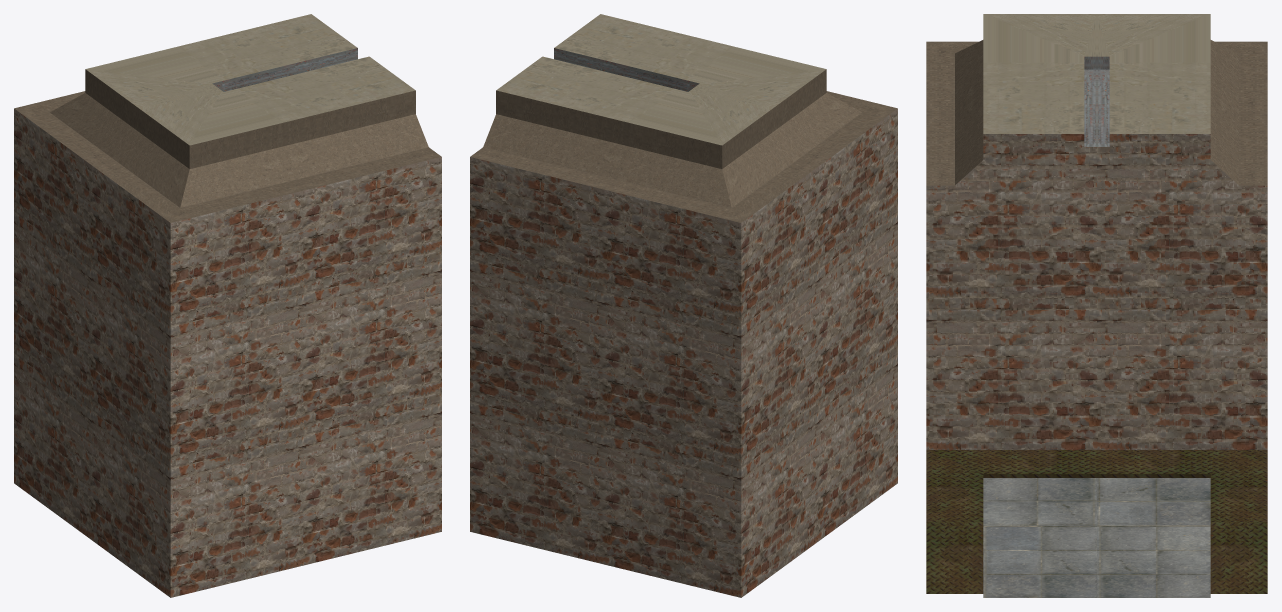
The model's file is 3x3_end_hallway.fbx.
3 renders of one model, left to right at view 1: azimuth 30°, elevation 25°; view 2: azimuth 150°, elevation 25°; view 3: azimuth 270°, elevation 25°, orthographic. The views are drawn at different scales.
Visible parts, largest first — view 1: 3x3EndHallwayModel; view 2: 3x3EndHallwayModel; view 3: 3x3EndHallwayModel.
Part boxes in pixels (x1,y1,x2,y2): 3x3EndHallwayModel: [14, 14, 441, 597]; 3x3EndHallwayModel: [470, 14, 897, 597]; 3x3EndHallwayModel: [926, 14, 1267, 597].
Bounding box in the file's own units: 300 × 450 × 300.
